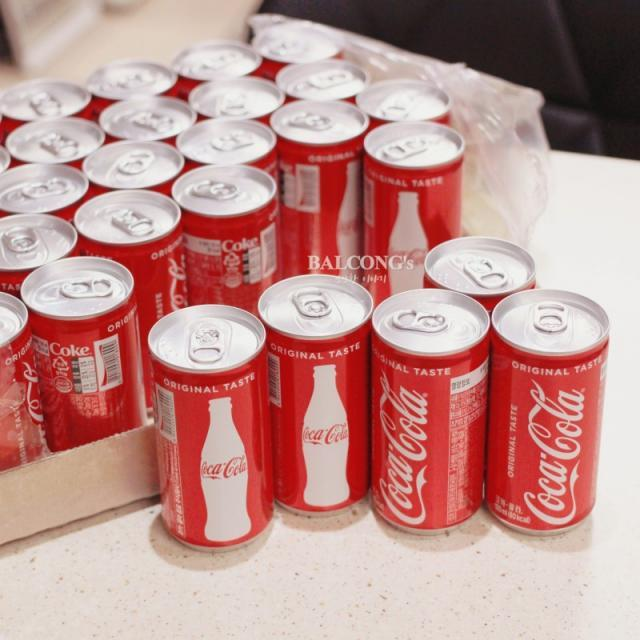coca-cola: (482, 287, 614, 537), (150, 304, 274, 556), (366, 285, 489, 537), (260, 271, 372, 521), (27, 256, 145, 454), (364, 120, 464, 298), (275, 100, 365, 286), (180, 172, 274, 310)
